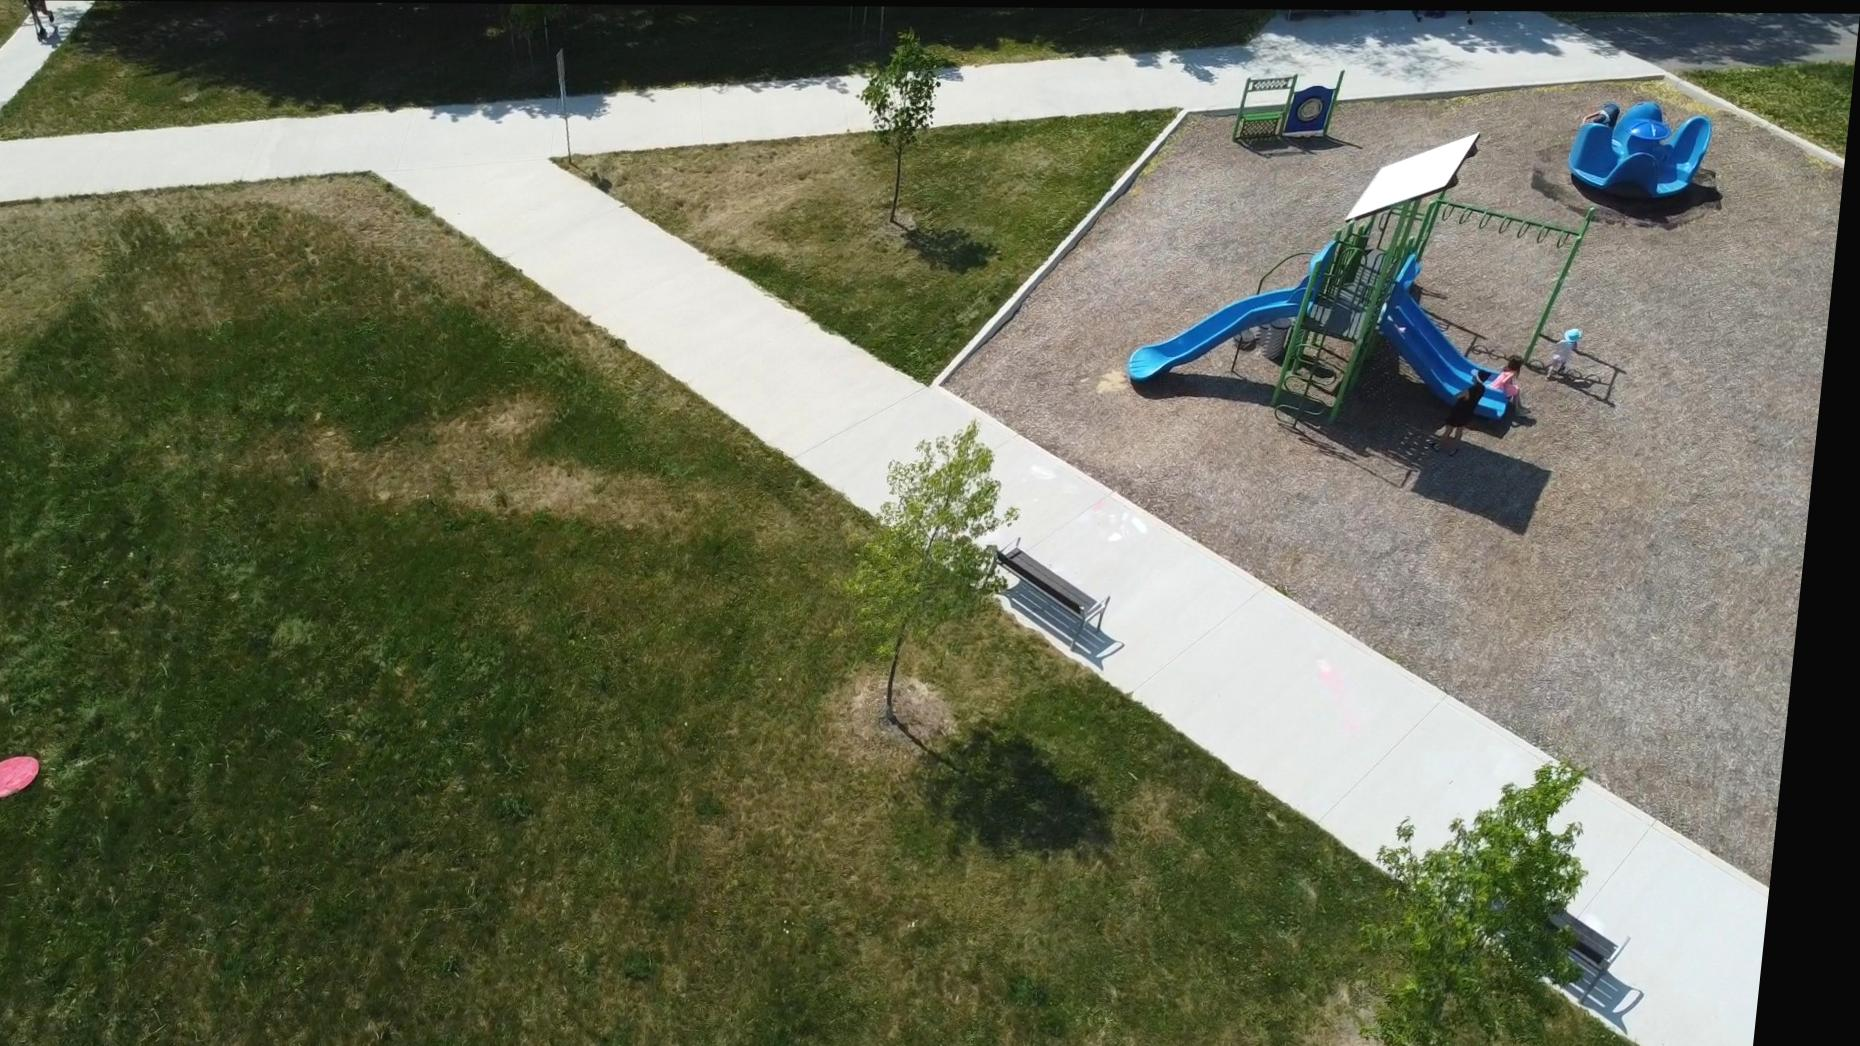Red: (0, 752, 59, 801)
